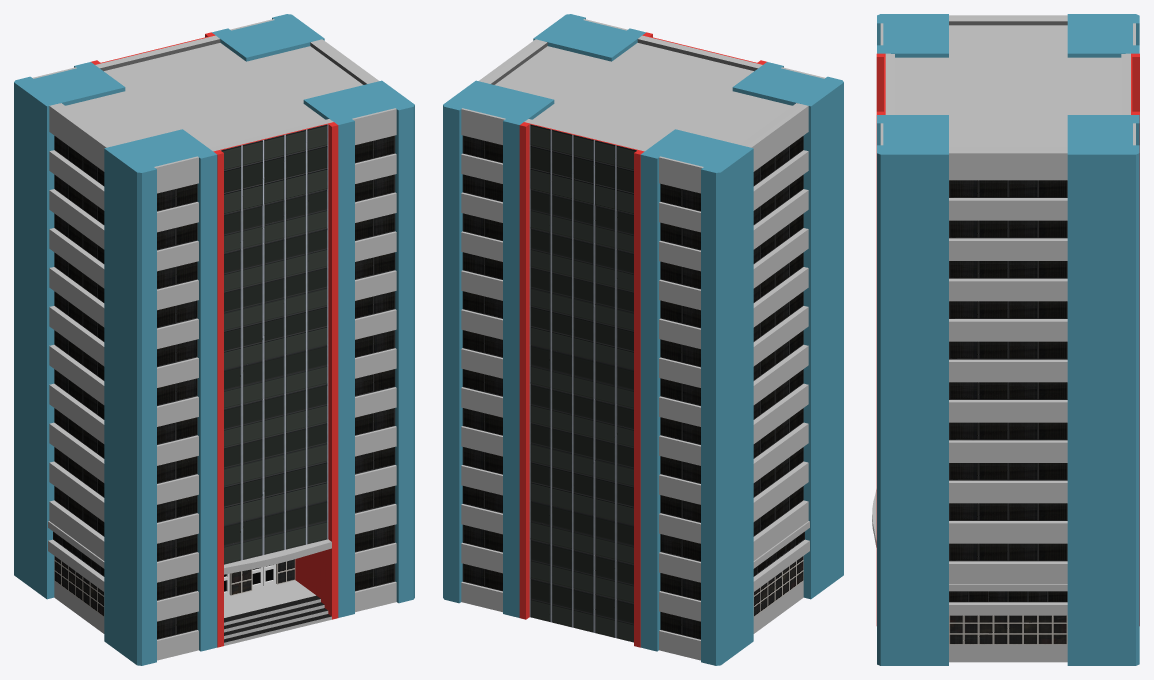
3 renders of one model, left to right at view 1: azimuth 30°, elevation 25°; view 2: azimuth 150°, elevation 25°; view 3: azimuth 270°, elevation 25°, orthographic. The views are drawn at different scales.
Parts seen in each view (by area): view 1: Building; view 2: Building; view 3: Building.
Part boxes in pixels (box(x1,y1,x2,y2)): Building: box(14, 14, 414, 665); Building: box(443, 14, 843, 665); Building: box(872, 14, 1139, 665).
Size of what is drawn, in the model's own units: 22.42 by 38 by 18.03.
